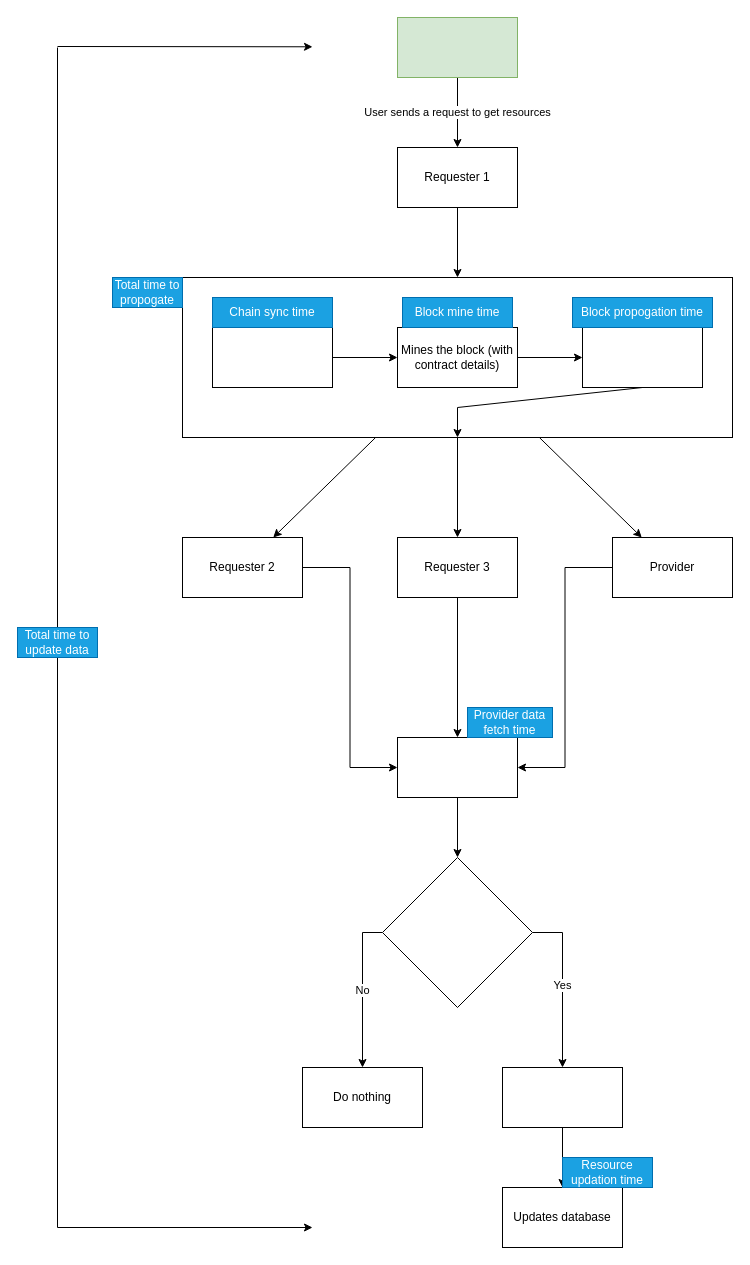
The diagram is 750 pixels wide and 1265 high, and some of its shapes have lost their labels. The shapes that lost their labels are listed below. From the top down, each one's centre as x and y in pixels, then its label:
[457,47]: User
[272,357]: Syncs the chain
[642,357]: Broadcasts it to all nodes
[457,767]: Sees the new block
[457,932]: Check if the node is of provider
[562,1097]: Check which contract-id matches
